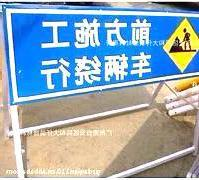sign: (3, 1, 199, 105)
